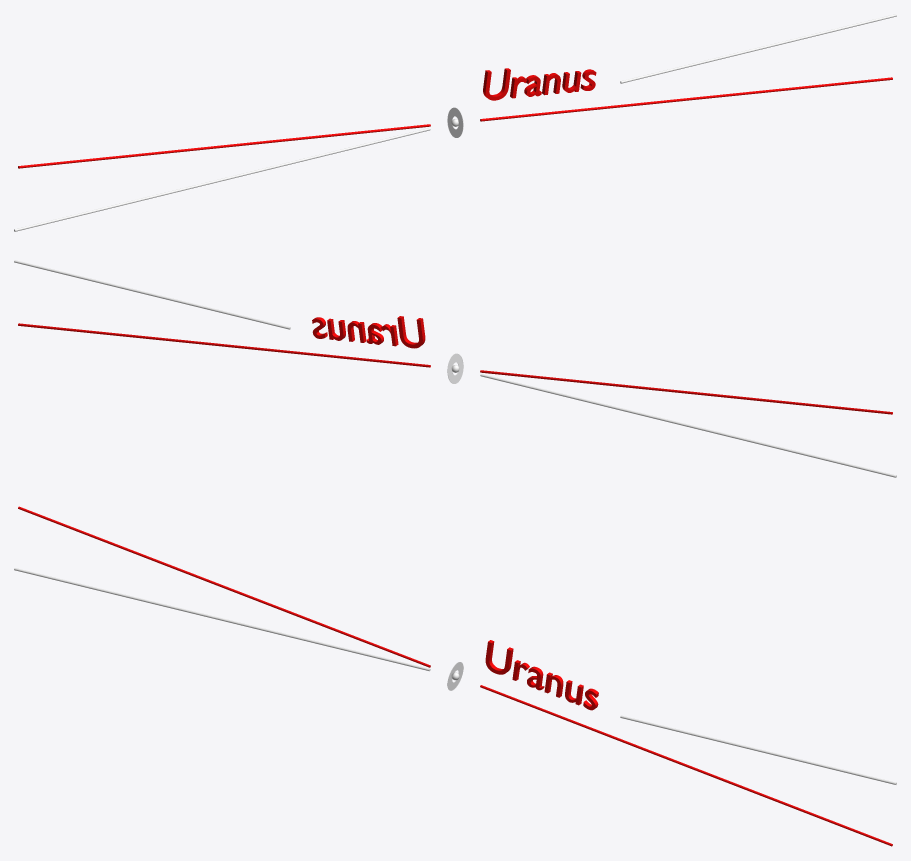
File: uranus.glb
3 views of the same model, one above another, from view 1: azimuth 30°, elevation 25°; view 2: azimuth 150°, elevation 25°; view 3: azimuth 330°, elevation 25° (orthographic).
Visible parts, largest first — view 1: Text, Cylinder.005, Cylinder.002, Cylinder.001, Cylinder.004; view 2: Text, Cylinder.005, Cylinder.002, Cylinder.001, Cylinder.004; view 3: Text, Cylinder.001, Cylinder.002, Cylinder.005, Cylinder.004.
Part boxes in pixels (x1,y1,x2,y2): Text: (483,68,596,100); Cylinder.005: (14,128,430,231); Cylinder.002: (480,77,892,121); Cylinder.001: (18,124,430,168); Cylinder.004: (620,14,896,83); Text: (312,316,425,348); Cylinder.005: (480,374,896,477); Cylinder.002: (18,323,430,367); Cylinder.001: (480,370,892,414); Cylinder.004: (14,260,290,329); Text: (485,640,598,710); Cylinder.001: (18,506,430,667); Cylinder.002: (480,685,892,846); Cylinder.005: (14,568,430,671); Cylinder.004: (620,715,896,784).
Size of the model in its own units: 2 by 0.2748 by 0.0601.
